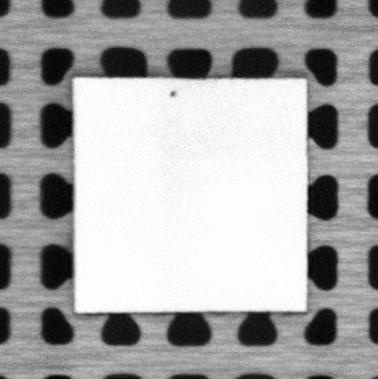DIE_INK: (166, 88, 178, 99)
